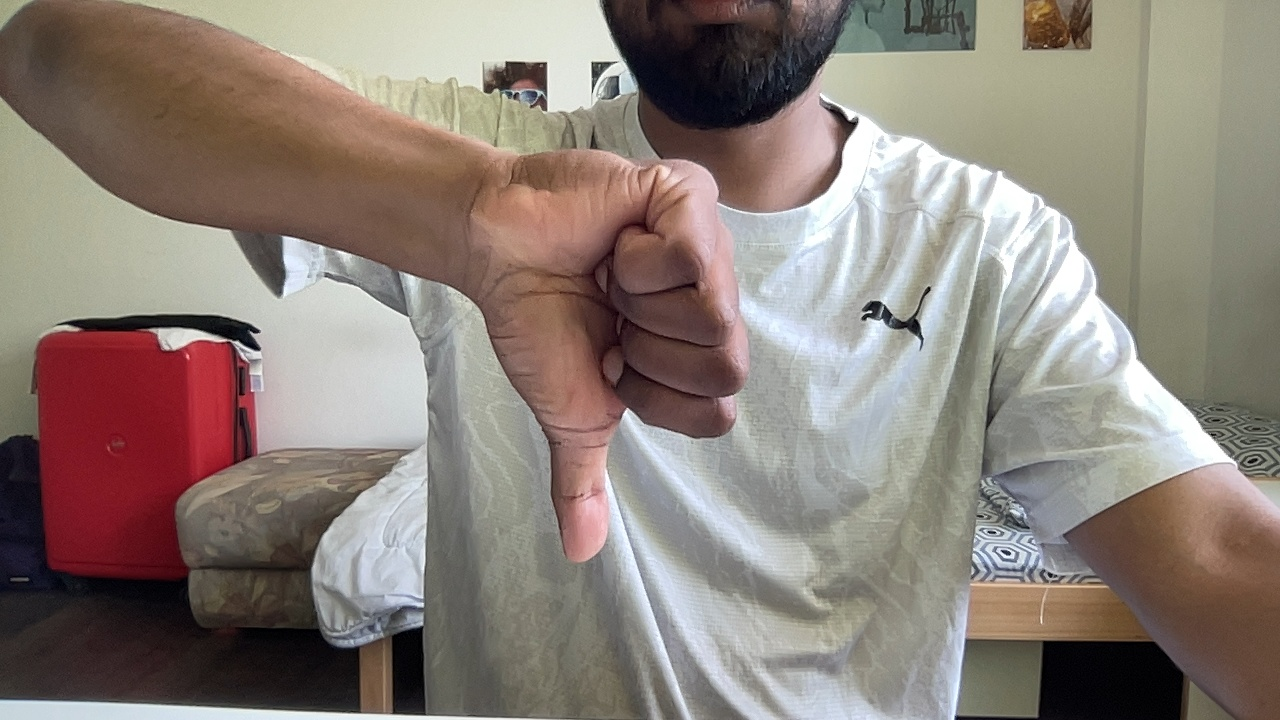ThumbsDown: (465, 146, 756, 566)
